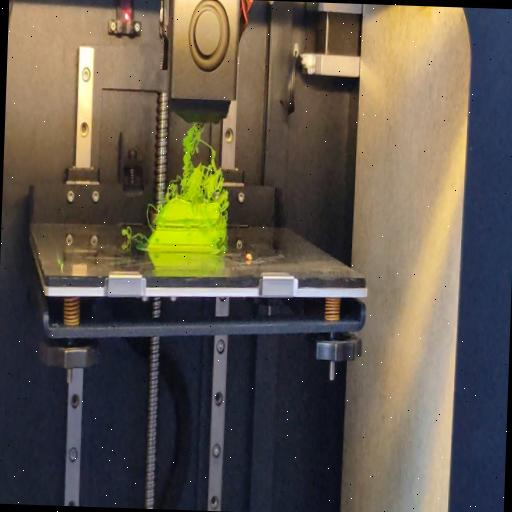spaghetti: (164, 122, 228, 203), (216, 202, 229, 253), (118, 223, 148, 243), (146, 201, 156, 228)
